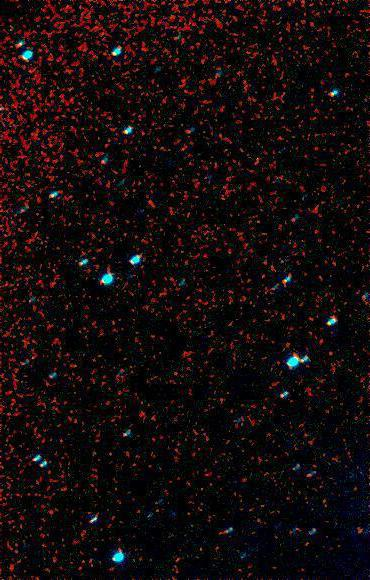star: (345, 514, 370, 544)
